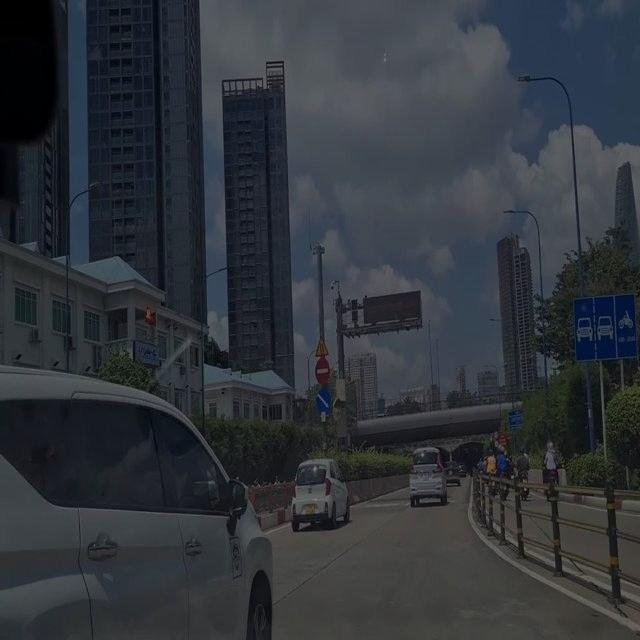Cấm đi ngược chiều: (314, 356, 330, 384)
Hướng phải đi vòng sang phải: (315, 382, 331, 413)
Làn đường cho từng xe: (569, 292, 637, 361)
Đường hẹp: (314, 331, 330, 356)
